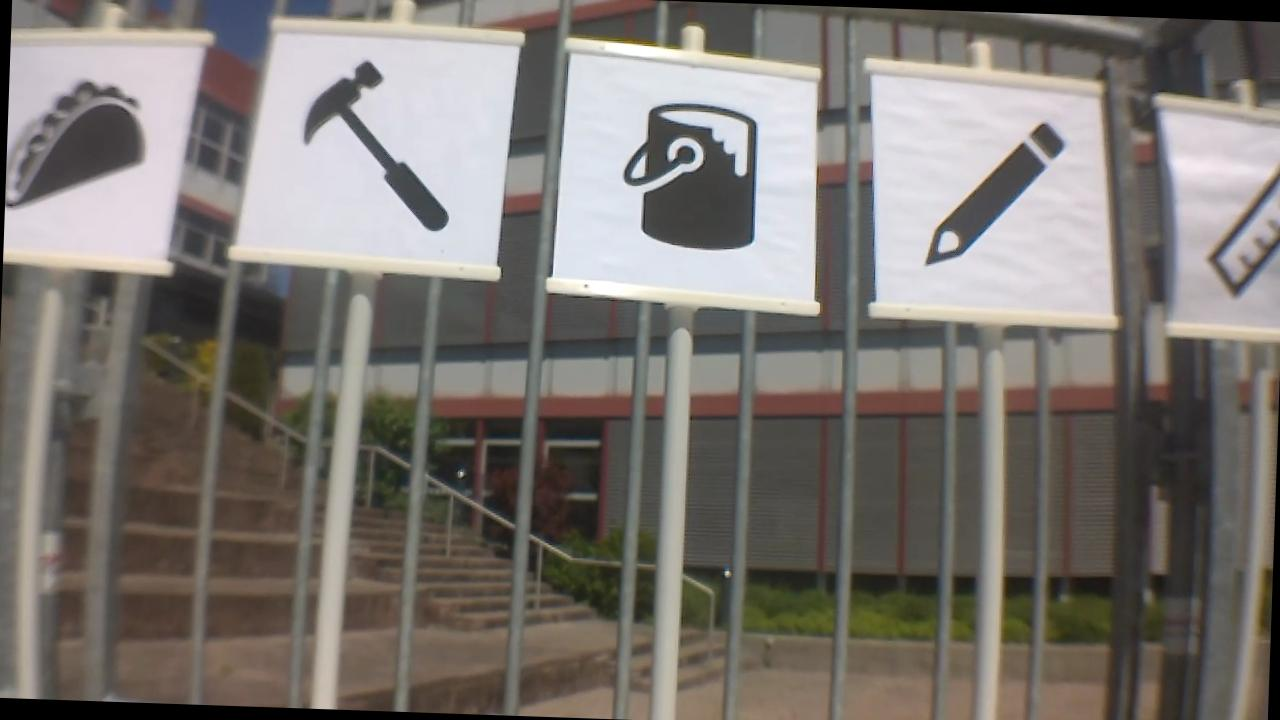bucket: (608, 97, 770, 249)
hammer: (285, 48, 467, 233)
pencil: (919, 113, 1071, 272)
ruler: (1207, 135, 1280, 285)
taco: (4, 74, 159, 218)
